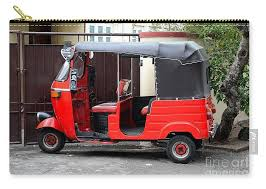tuk tuk: (34, 41, 215, 164)
